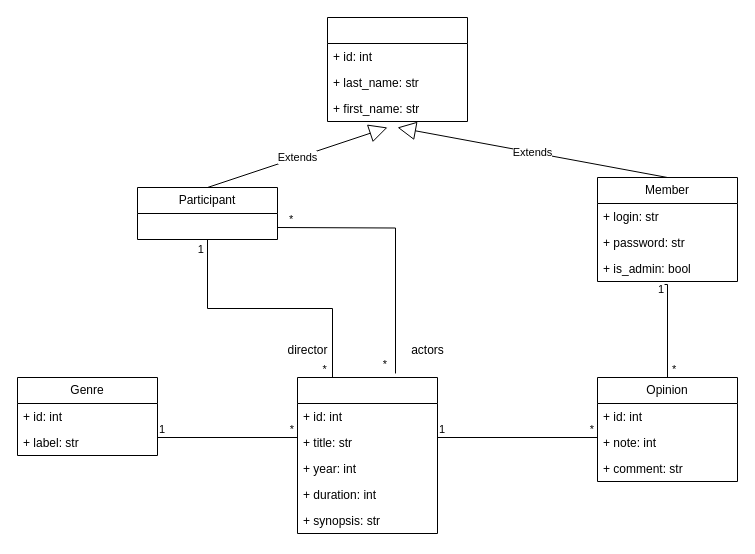
This 755x554 diagram has some shape labels left out. Each missing label, with the box of its shape:
Movie: (296, 376, 438, 534)
Person: (326, 16, 468, 122)
